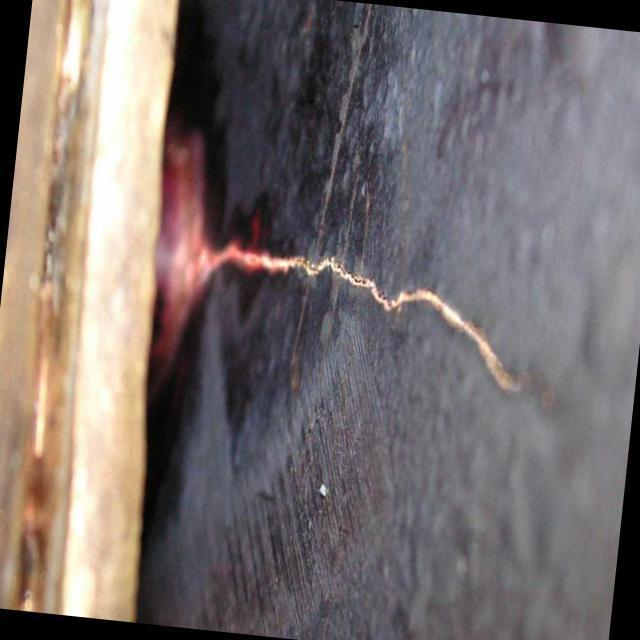defect: (194, 235, 560, 414)
